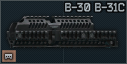B-30 handguard with B-31S upper handguard rail: (0, 0, 127, 64)
